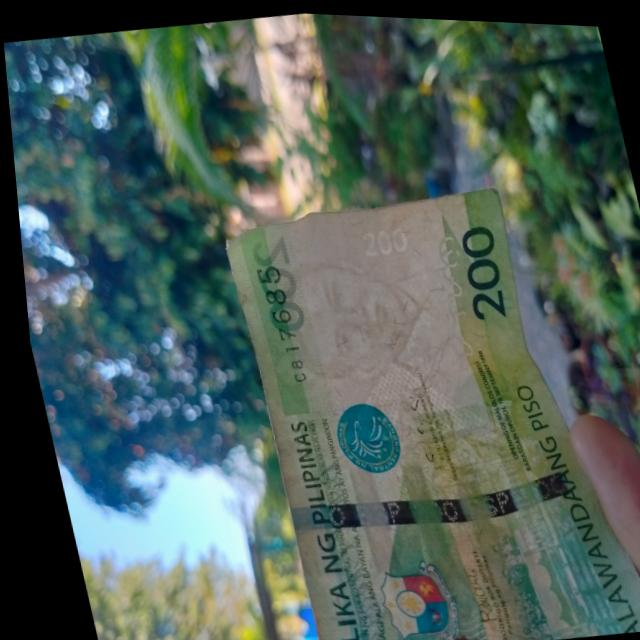security_thread: (275, 450, 584, 541)
see_through_mark: (416, 210, 482, 365)
value_watermark: (351, 215, 414, 267)
watermark: (264, 238, 461, 426)
